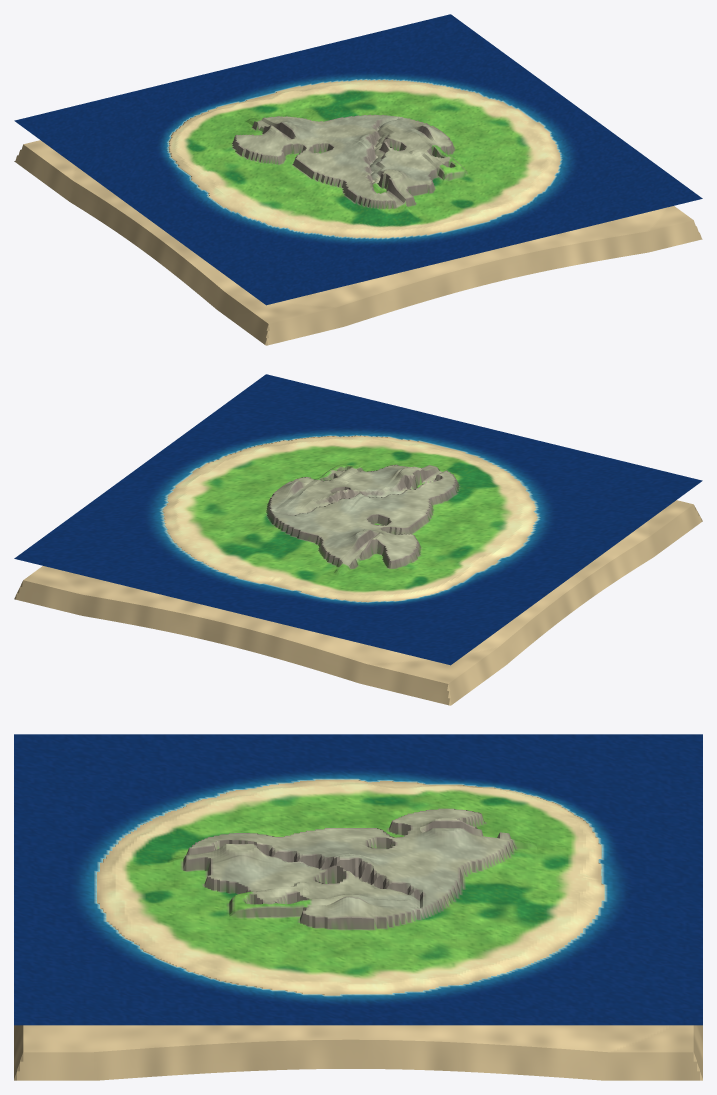
The model's file is island_824934.glb.
3 renders of one model, top to bottom at view 1: azimuth 30°, elevation 25°; view 2: azimuth 150°, elevation 25°; view 3: azimuth 270°, elevation 25°, orthographic. The views are drawn at different scales.
Parts seen in each view (by area): view 1: Grid, Grid.001; view 2: Grid, Grid.001; view 3: Grid, Grid.001.
Boxes of the visible parts, bbox=[...] form: Grid: bbox=[14, 79, 702, 345]; Grid.001: bbox=[14, 14, 702, 305]; Grid: bbox=[14, 435, 702, 705]; Grid.001: bbox=[14, 374, 702, 665]; Grid: bbox=[14, 779, 702, 1080]; Grid.001: bbox=[14, 734, 702, 1025].
Size of the model in its own units: 56 by 7.36 by 56.
